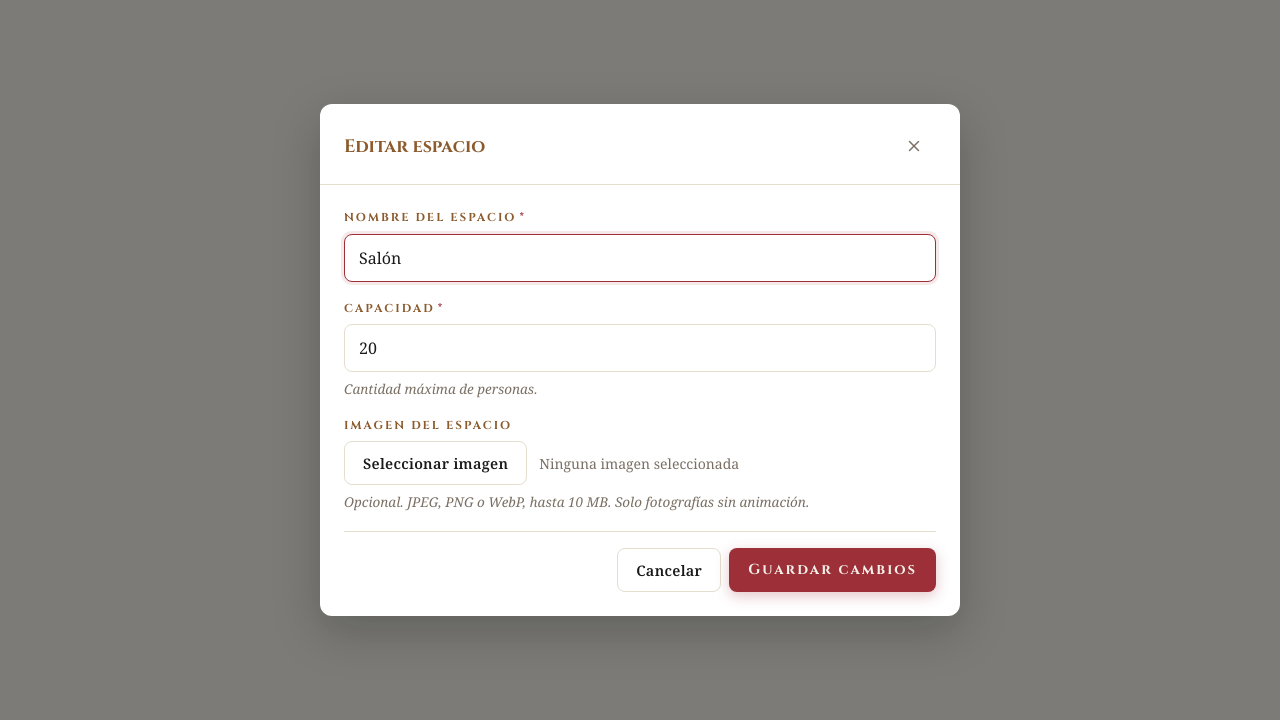
Test case: validación y envío de espacios › no envía capacidad inválida 0 incluso con envío programático
This screenshot has width=1280, height=720.
Replace the text in the number field labelled "Capacidad*" with "0". click: x=640, y=348
box: [344,324,936,372]
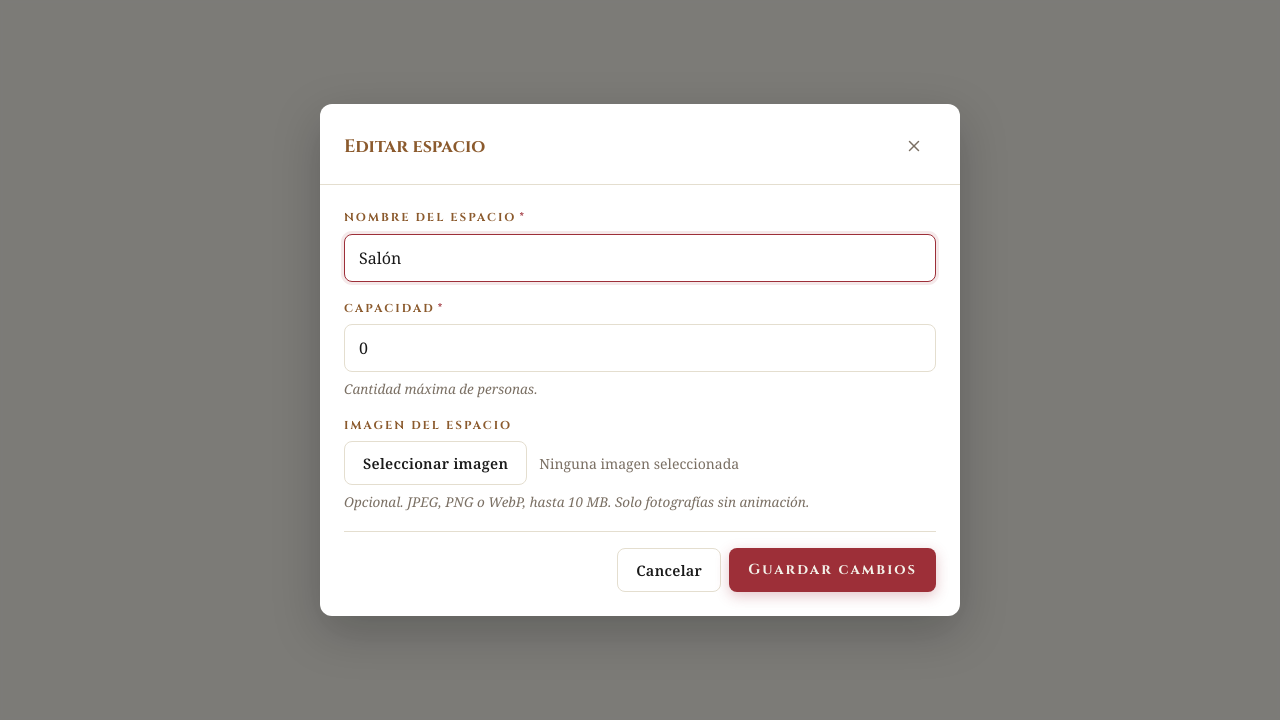
Submit the form labelled "Capacidad", box [344,209,936,592]
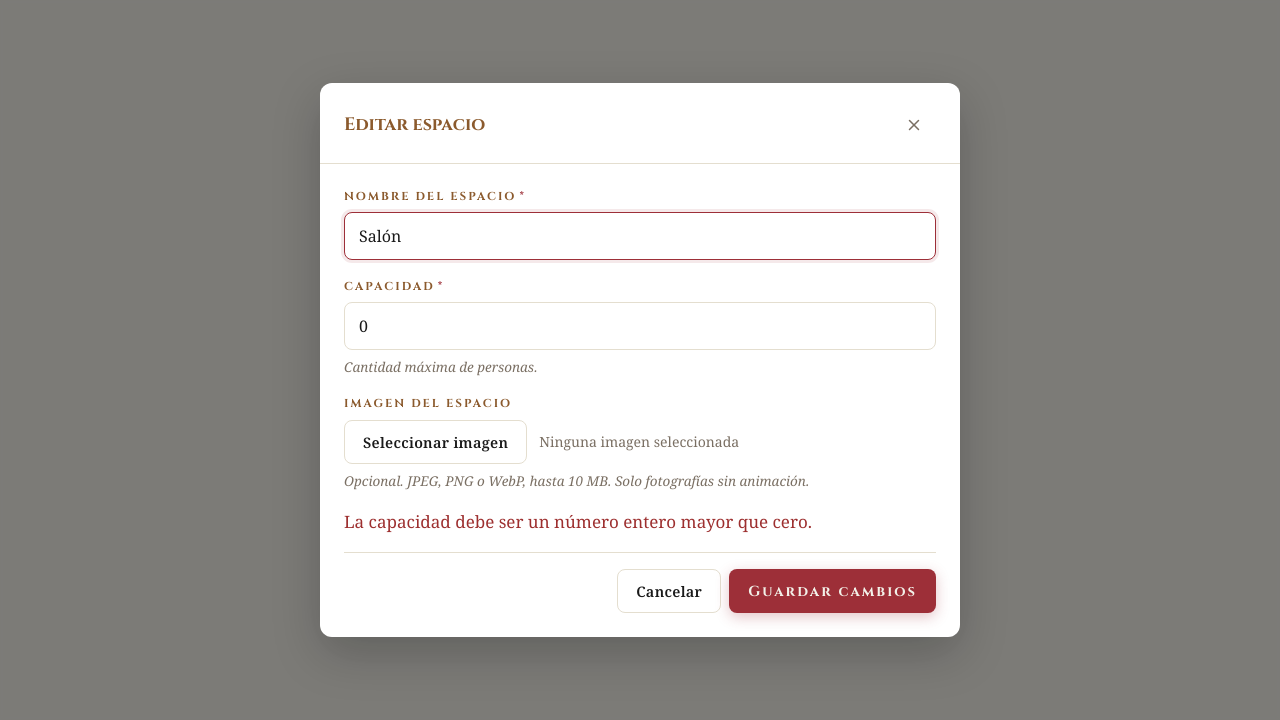
expect the message shows "entero mayor que cero": met, box [344,510,812,533]
